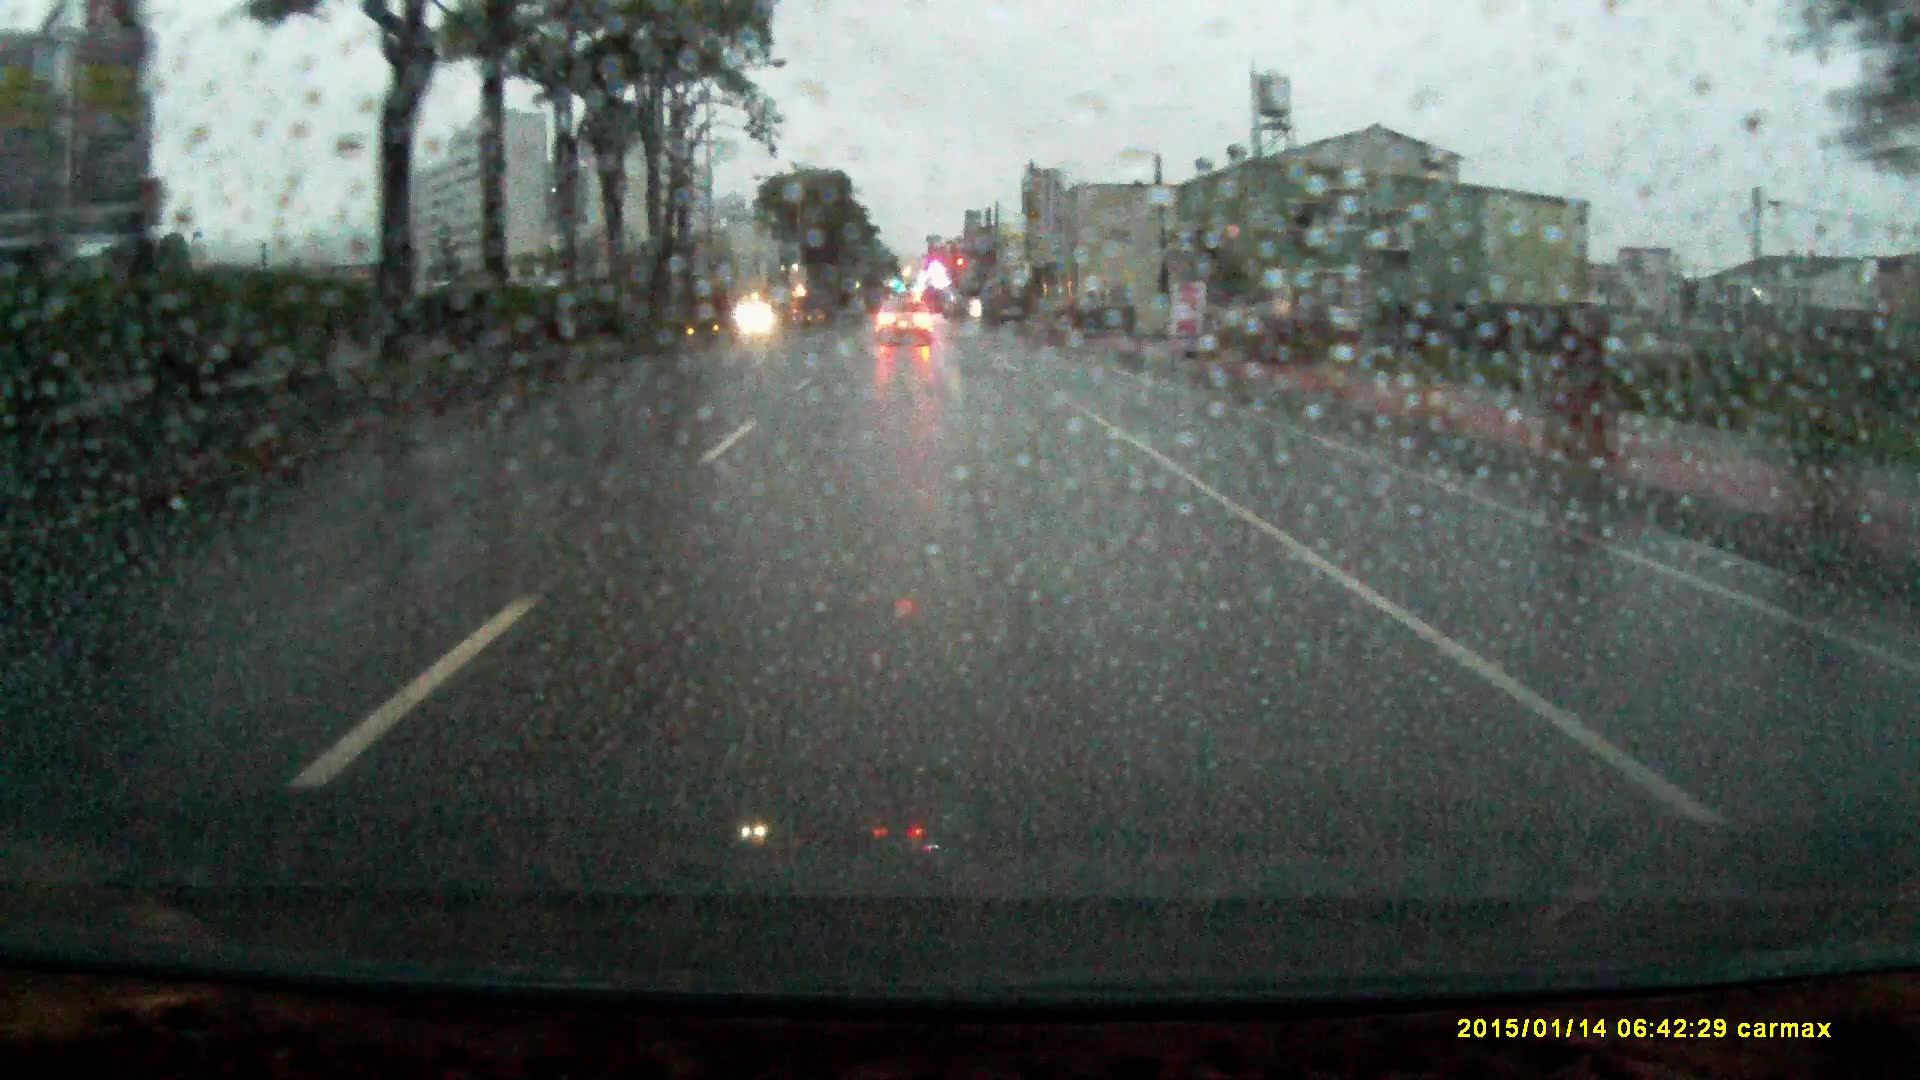vehicle: (876, 302, 935, 347)
